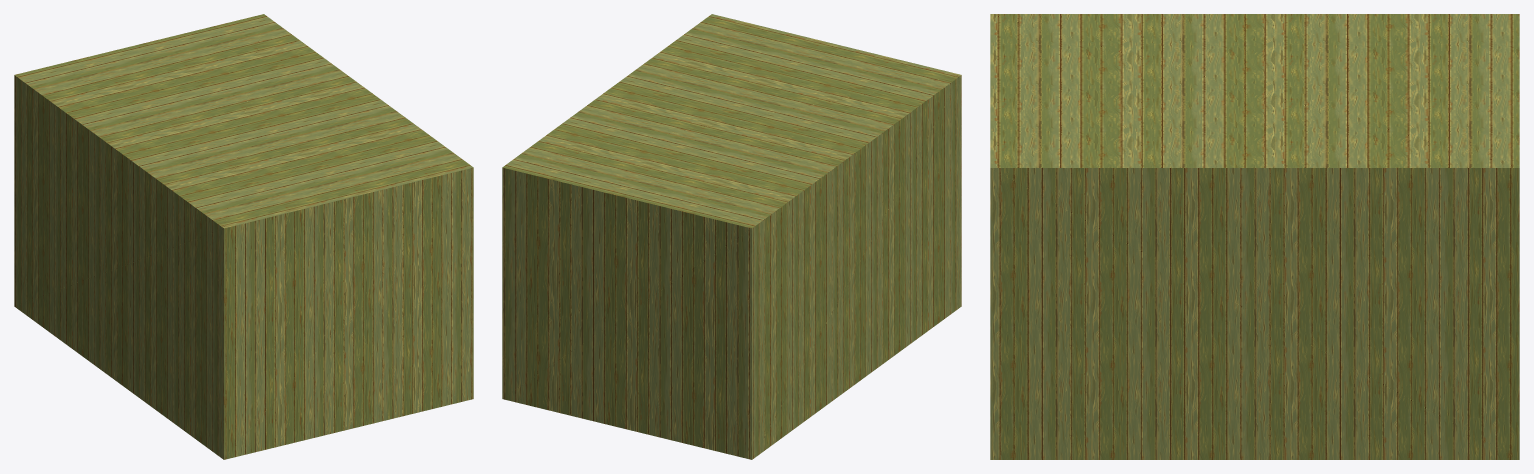
3 renders of one model, left to right at view 1: azimuth 30°, elevation 25°; view 2: azimuth 150°, elevation 25°; view 3: azimuth 270°, elevation 25°, orthographic. The views are drawn at different scales.
Visible parts, largest first — view 1: Plane.018; view 2: Plane.018; view 3: Plane.018.
Part boxes in pixels (x1=…): Plane.018: x1=14, y1=14, x2=473, y2=459; Plane.018: x1=502, y1=14, x2=961, y2=459; Plane.018: x1=990, y1=14, x2=1519, y2=459.
Size of the model in its own units: 876 by 776 by 1275.
1 material, 1 textured.
